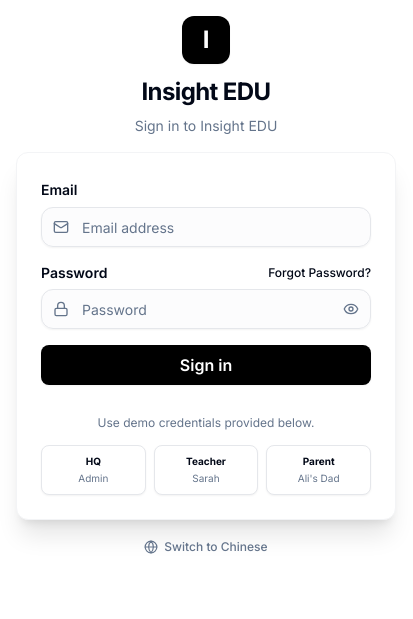
Test: Error Handling - API Errors › Data Integrity Errors › should handle missing required fields in response
Type "admin@edu.com" into the field with placeholder "Email address" at (206, 227), box top-left (41, 207), bottom-right (371, 247)
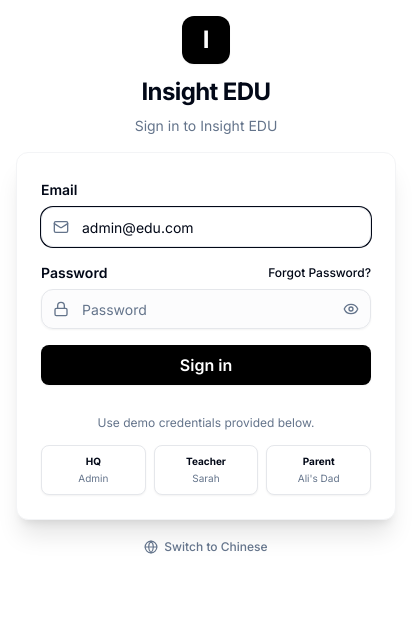
Type "Admin123" into the password field with placeholder "Password" at (206, 309), box top-left (41, 289), bottom-right (371, 329)
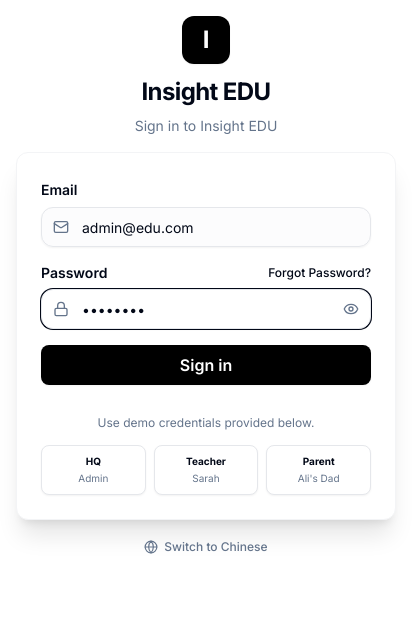
Click the submit button at (206, 365), box top-left (41, 345), bottom-right (371, 385)
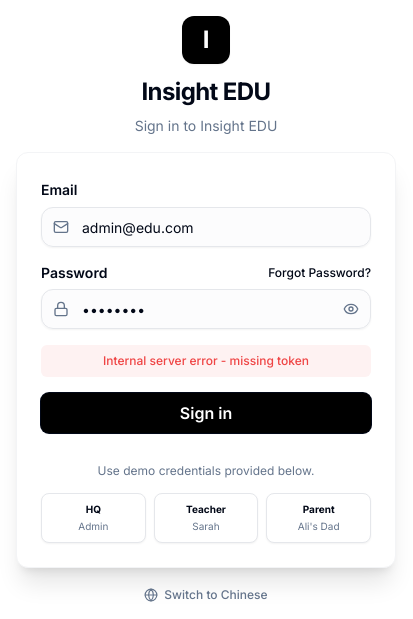
Expected: the text "Internal server error - missing token" is shown, top-left (41, 345), bottom-right (371, 377)
